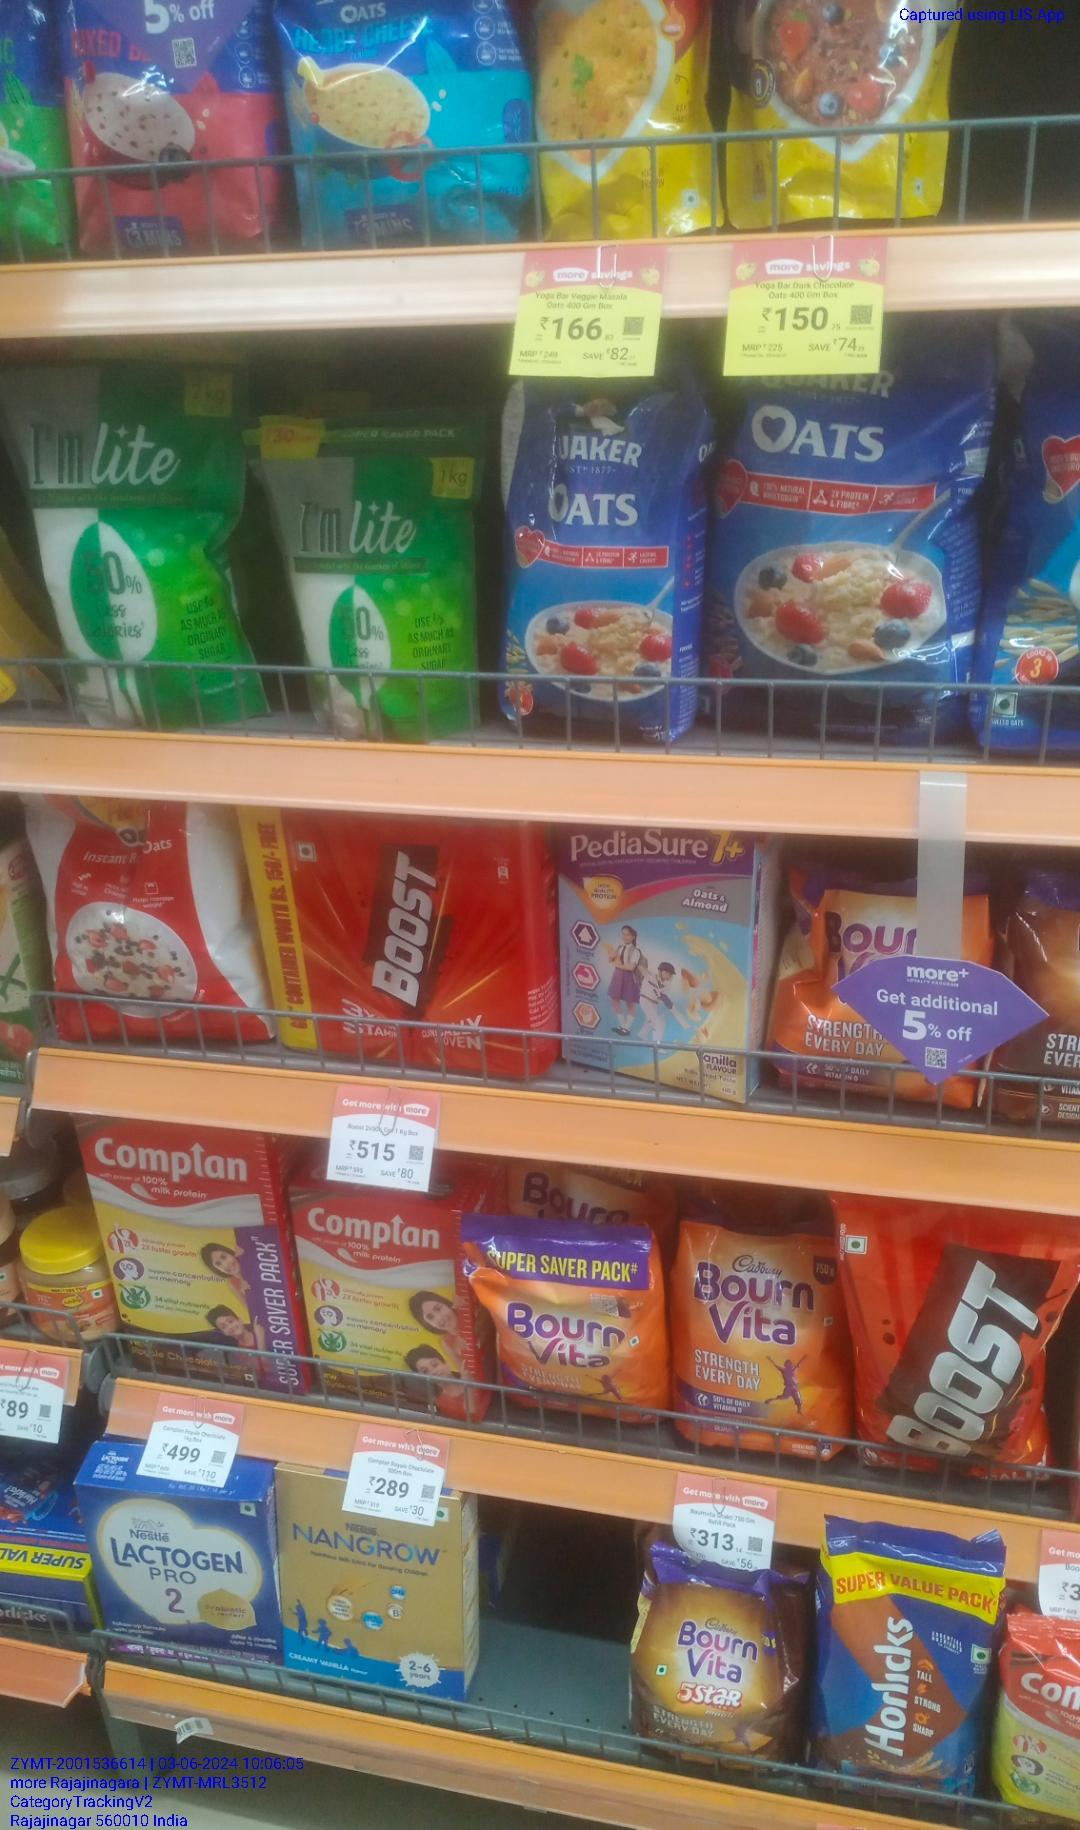BOURN_VITA_1_KG_POUCH: (489, 1227, 657, 1429)
BOURN_VITA_750_G_POUCH: (676, 1213, 829, 1452)
BOURN_VITA_FIVE_STAR_MAGIC_750_G_POUCH: (643, 1564, 801, 1775)
COMPLAN_CHOCOLATE_1_KG_PACK: (100, 1131, 284, 1402)
HORLICK_CHOCOLATE_750_G_POUCH: (823, 1527, 980, 1811)
